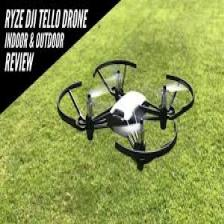drone: (56, 60, 194, 162)
